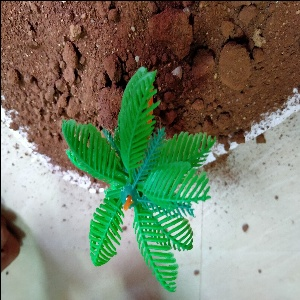plant: (63, 74, 216, 295)
